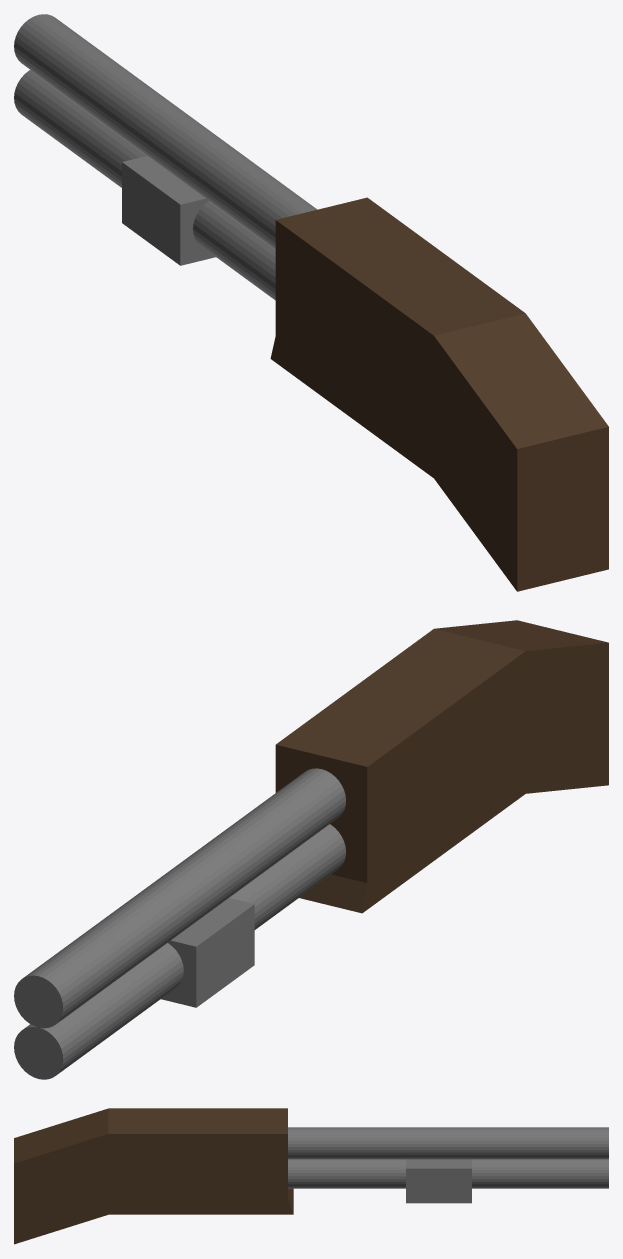
File: shotgun1.fbx
3 renders of one model, top to bottom at view 1: azimuth 30°, elevation 25°; view 2: azimuth 150°, elevation 25°; view 3: azimuth 270°, elevation 25°, orthographic. The views are drawn at different scales.
Visible parts, largest first — view 1: LowerBarrel.011, LowerBarrel.016; view 2: LowerBarrel.011, LowerBarrel.016; view 3: LowerBarrel.011, LowerBarrel.016.
Part boxes in pixels (bbox=[...]): LowerBarrel.011: bbox=[270, 197, 608, 591]; LowerBarrel.016: bbox=[14, 14, 316, 300]; LowerBarrel.011: bbox=[275, 620, 608, 913]; LowerBarrel.016: bbox=[14, 768, 345, 1079]; LowerBarrel.011: bbox=[14, 1108, 293, 1244]; LowerBarrel.016: bbox=[288, 1127, 608, 1203].
Size of the model in its own units: 135 by 273 by 1332.
